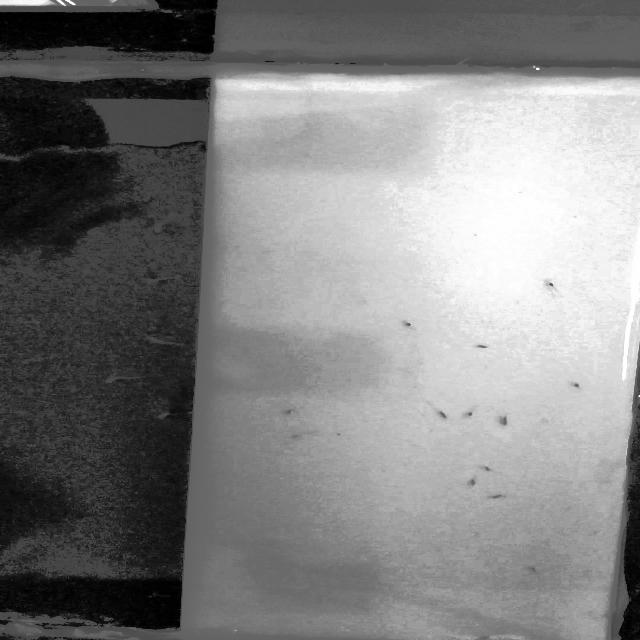shrimp: (398, 316, 432, 341), (424, 396, 456, 420), (471, 341, 507, 352), (542, 278, 566, 294), (481, 464, 500, 476), (499, 410, 512, 427), (464, 476, 482, 488), (566, 380, 586, 390), (488, 492, 508, 500), (282, 409, 303, 416), (526, 564, 542, 573), (466, 406, 476, 420), (474, 633, 492, 640), (288, 434, 305, 439)
